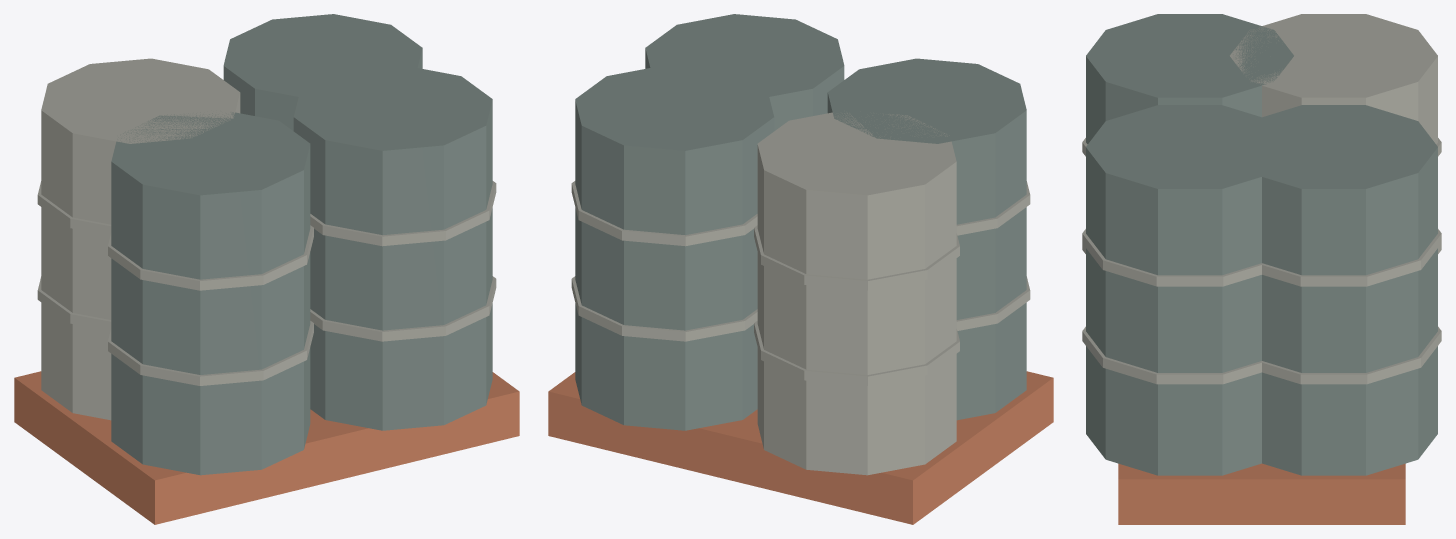
Rendered from SM_Bidones_v0_Pale4_LOD0.fbx.
The picture shows the model from 3 angles, left to right: view 1: azimuth 30°, elevation 25°; view 2: azimuth 150°, elevation 25°; view 3: azimuth 270°, elevation 25°; orthographic projection. The views are drawn at different scales.
Parts seen in each view (by area): view 1: SM_sagunto_vivo_v0_LOD0; view 2: SM_sagunto_vivo_v0_LOD0; view 3: SM_sagunto_vivo_v0_LOD0.
Boxes of the visible parts, box(x1,y1,x2,y2) form: SM_sagunto_vivo_v0_LOD0: box(14, 14, 519, 524); SM_sagunto_vivo_v0_LOD0: box(548, 14, 1053, 524); SM_sagunto_vivo_v0_LOD0: box(1082, 14, 1441, 524).
Size of the model in its own units: 1.2 by 1.02 by 1.
